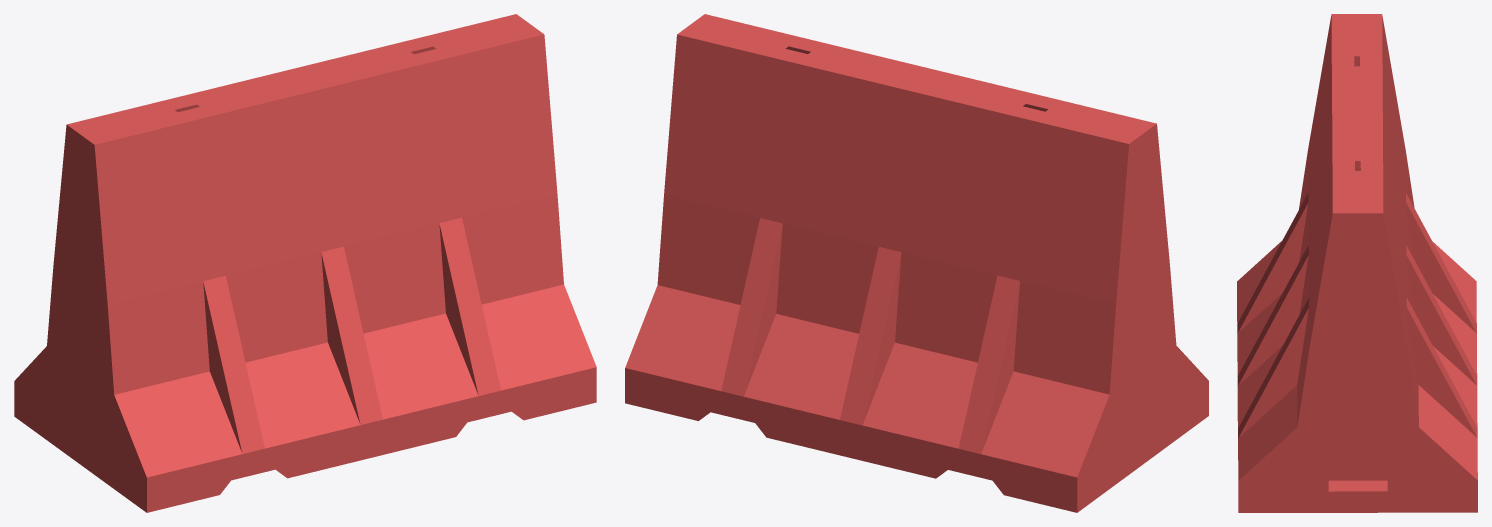
File: Barrier_1.fbx
3 views of the same model, side by side, from view 1: azimuth 30°, elevation 25°; view 2: azimuth 150°, elevation 25°; view 3: azimuth 270°, elevation 25° (orthographic). The views are drawn at different scales.
Parts seen in each view (by area): view 1: barrier_1; view 2: barrier_1; view 3: barrier_1.
Boxes of the visible parts, left/top/right/bottom form: barrier_1: left=14, top=14, right=596, bottom=512; barrier_1: left=625, top=14, right=1208, bottom=512; barrier_1: left=1237, top=14, right=1477, bottom=512.
Size of the model in its own units: 13.74 by 9.6 by 7.
